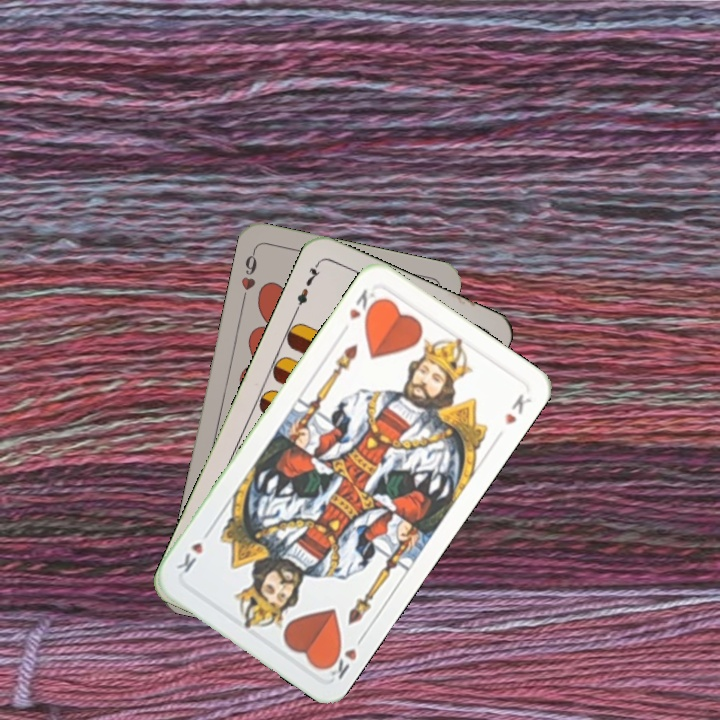E7: (290, 259, 323, 315)
H9: (237, 246, 260, 304)
HK: (320, 630, 368, 682), (345, 284, 382, 325)
